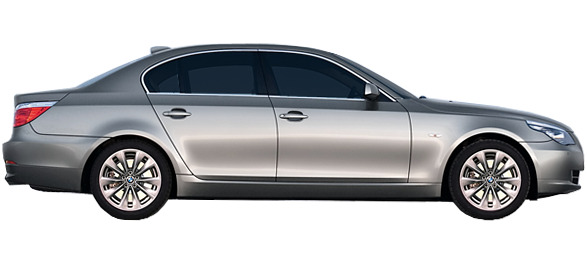mobil: (2, 40, 584, 222)
